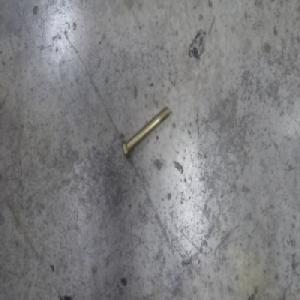Bolt: (121, 103, 171, 160)
